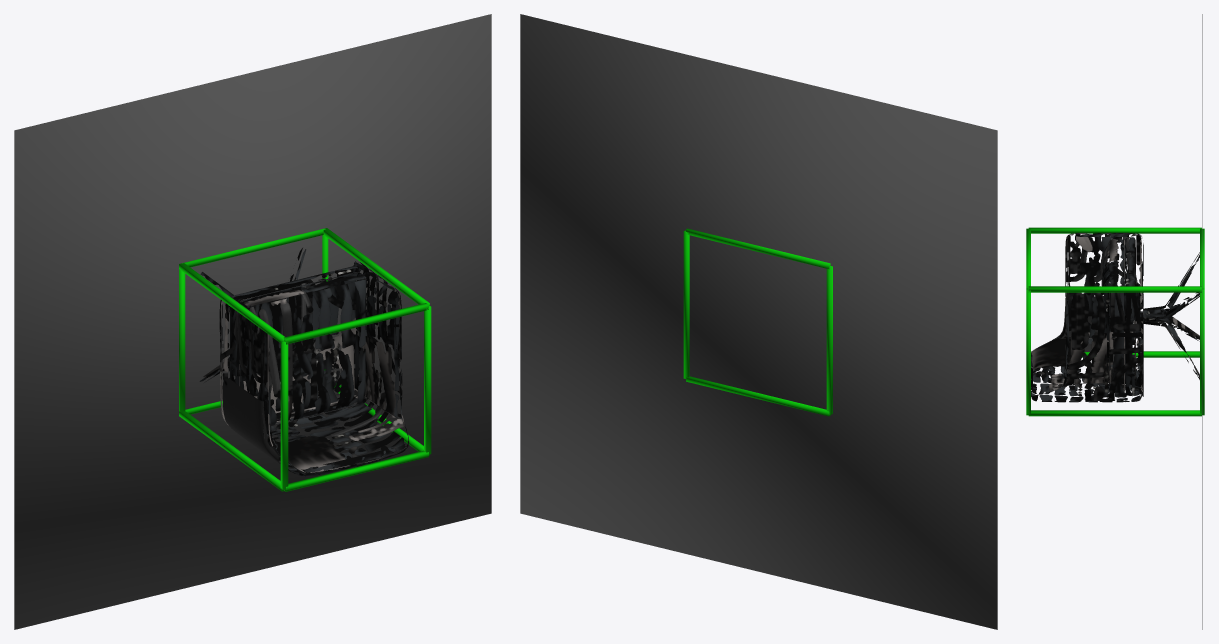
The picture shows the model from 3 angles, left to right: view 1: azimuth 30°, elevation 25°; view 2: azimuth 150°, elevation 25°; view 3: azimuth 270°, elevation 25°; orthographic projection. The views are drawn at different scales.
Size of the model in its own units: 2 by 2 by 0.768.
